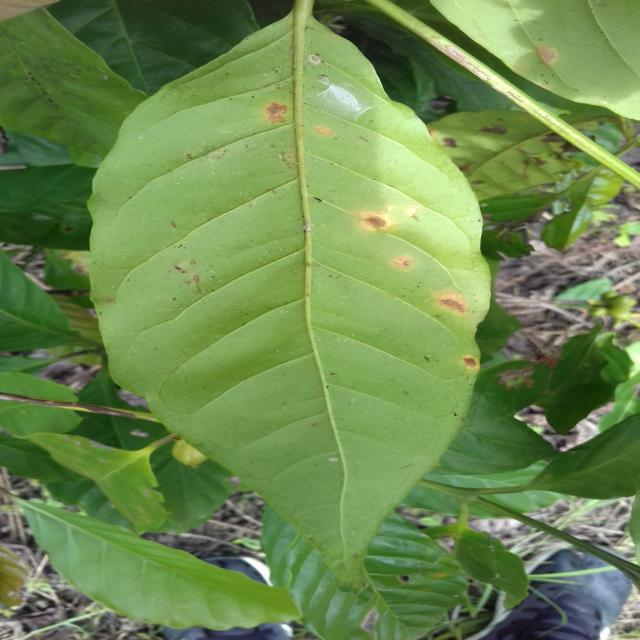Enfermedad-Roya: (86, 15, 494, 598)
